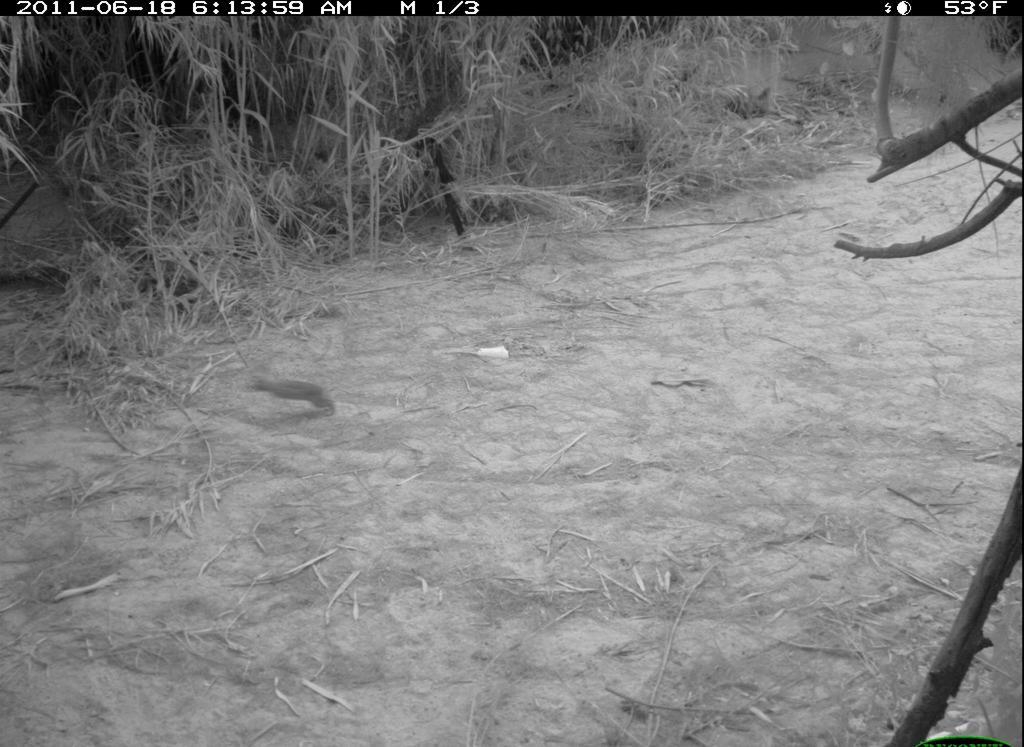rabbit: (223, 353, 356, 444)
